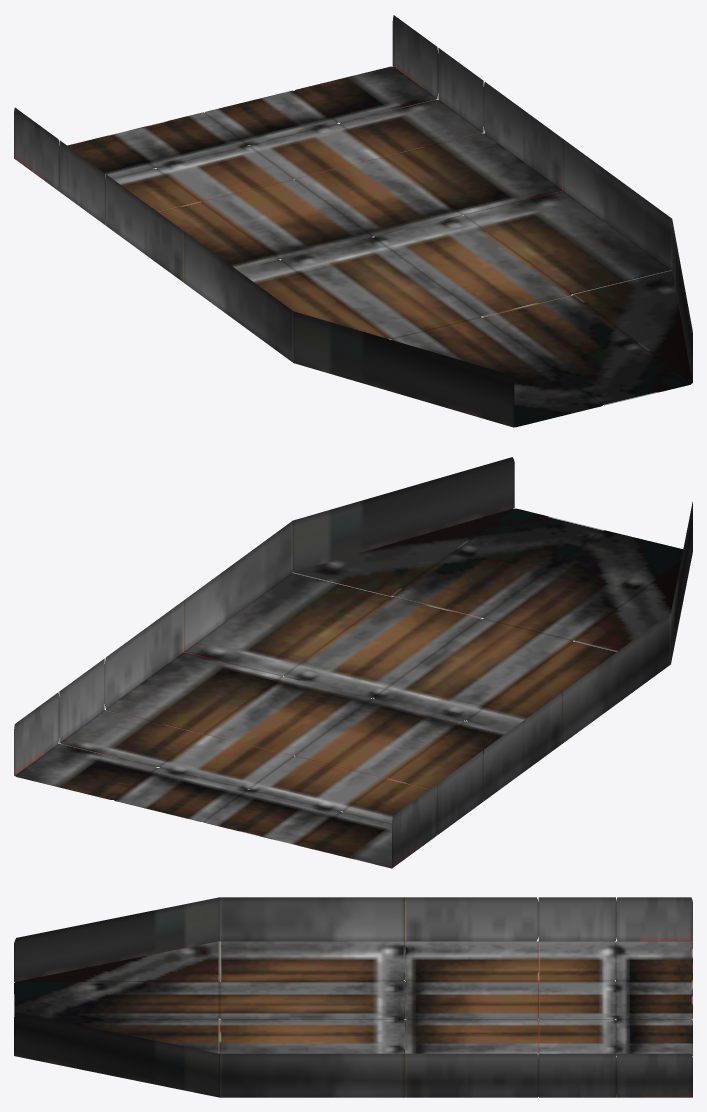
The picture shows the model from 3 angles, top to bottom: view 1: azimuth 30°, elevation 25°; view 2: azimuth 150°, elevation 25°; view 3: azimuth 270°, elevation 25°; orthographic projection. The views are drawn at different scales.
Parts seen in each view (by area): view 1: T1L6M007_6; view 2: T1L6M007_6; view 3: T1L6M007_6.
Boxes of the visible parts, left/top/right/bottom form: T1L6M007_6: left=14, top=15, right=692, bottom=427; T1L6M007_6: left=14, top=457, right=692, bottom=868; T1L6M007_6: left=14, top=897, right=692, bottom=1097.
Bounding box in the file's own units: 3.6 × 0.4707 × 6.6.
